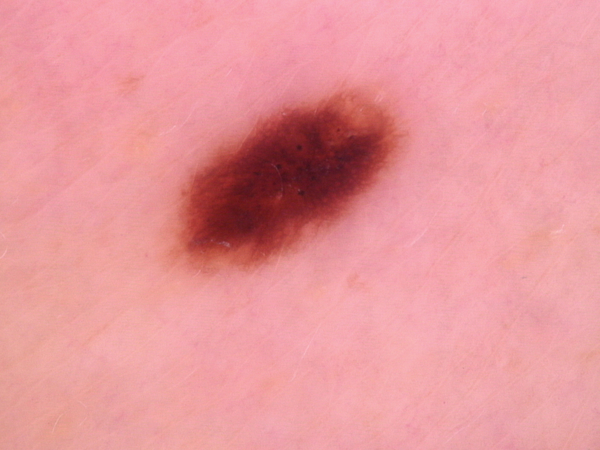Detected Lesion: (171, 79, 413, 274)
